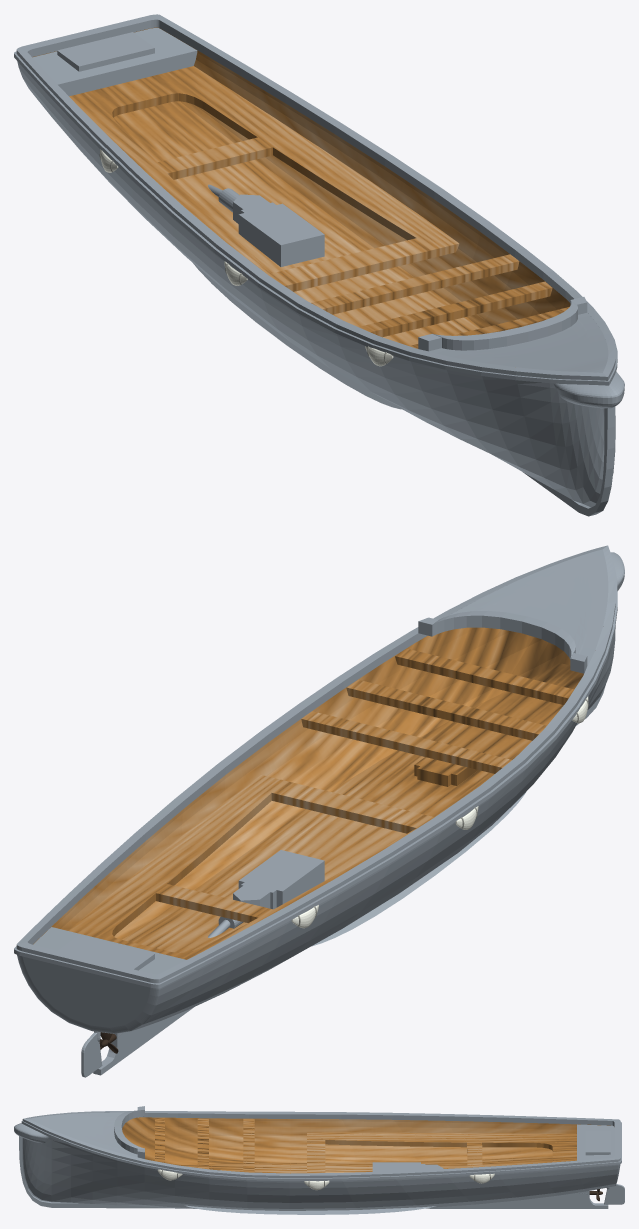
The model's file is 12mLaunch.obj.
3 renders of one model, top to bottom at view 1: azimuth 30°, elevation 25°; view 2: azimuth 150°, elevation 25°; view 3: azimuth 270°, elevation 25°, orthographic. The views are drawn at different scales.
Parts seen in each view (by area): view 1: ship, inside, box, bag; view 2: inside, ship, box, bag; view 3: ship, inside, box, bag, rudder.
Boxes of the visible parts, left/top/right/bottom form: ship: left=14, top=14, right=624, bottom=516; inside: left=32, top=27, right=570, bottom=348; box: left=233, top=194, right=324, bottom=266; bag: left=100, top=149, right=393, bottom=366; inside: left=33, top=627, right=583, bottom=959; ship: left=14, top=545, right=624, bottom=1075; box: left=233, top=850, right=324, bottom=909; bag: left=291, top=696, right=588, bottom=928; ship: left=14, top=1106, right=621, bottom=1214; inside: left=122, top=1117, right=610, bottom=1173; box: left=372, top=1162, right=443, bottom=1171; bag: left=157, top=1169, right=494, bottom=1190; rudder: left=604, top=1184, right=624, bottom=1204.
Bounding box in the file's own units: 3.17 × 1.96 × 12.17.
5 materials, 1 textured.
